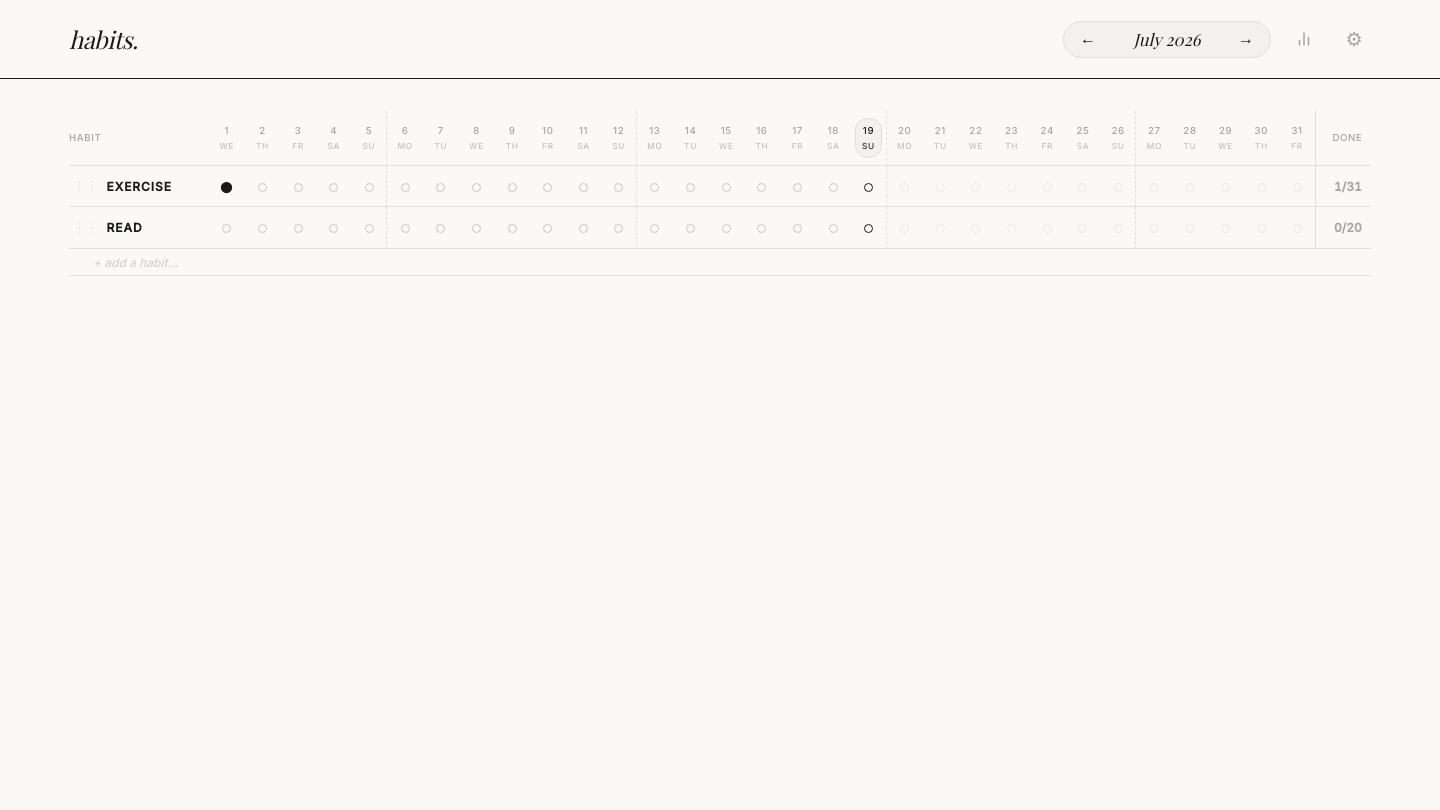
Test case: HabitTracker page › closes settings modal when overlay is clicked
Click the button titled "Settings" at (1354, 39), box [1337,22,1371,56]
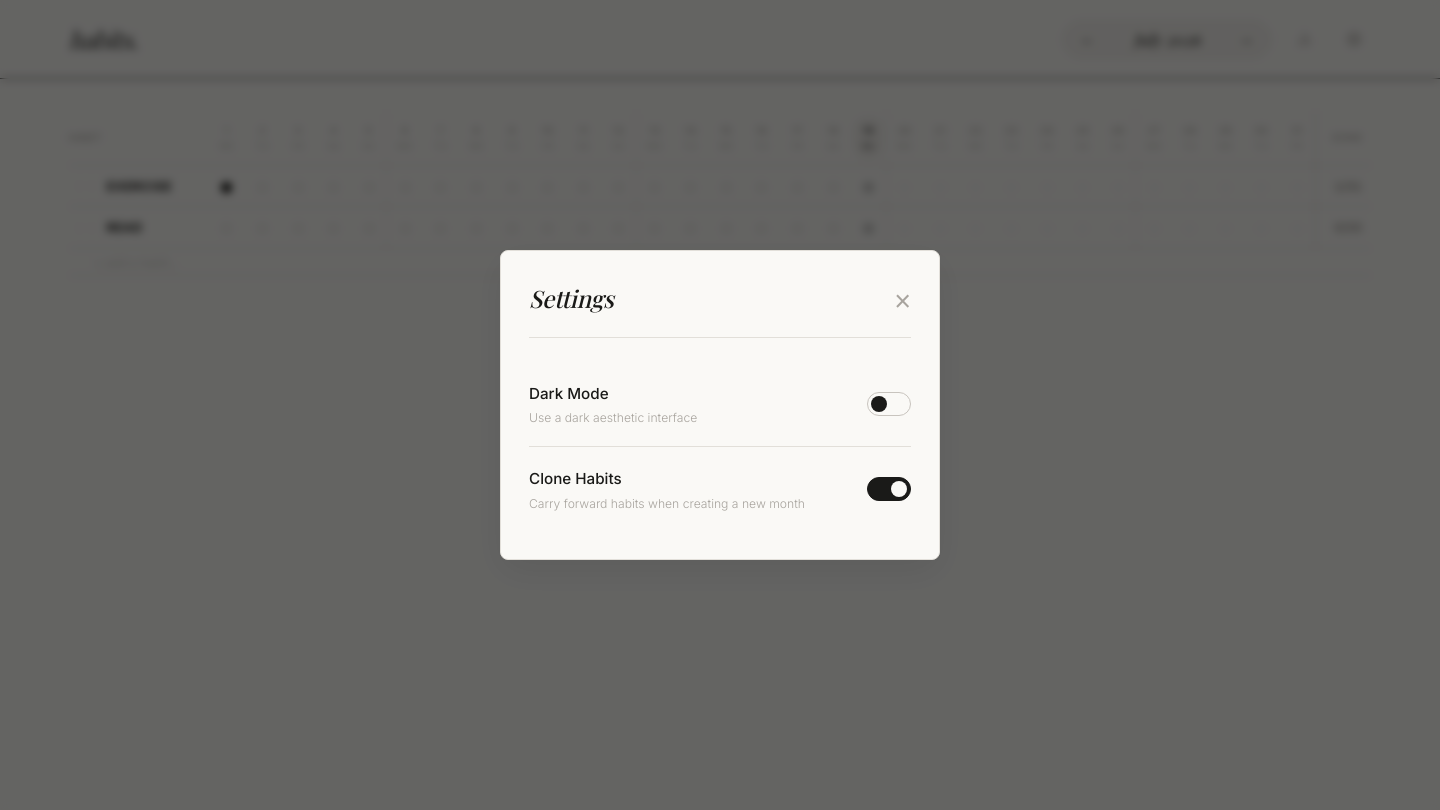
Expected: the text "Dark Mode" is shown, [529,384,609,403]
Click the × button
Click the button "×" at (903, 302), box [894,288,911,316]
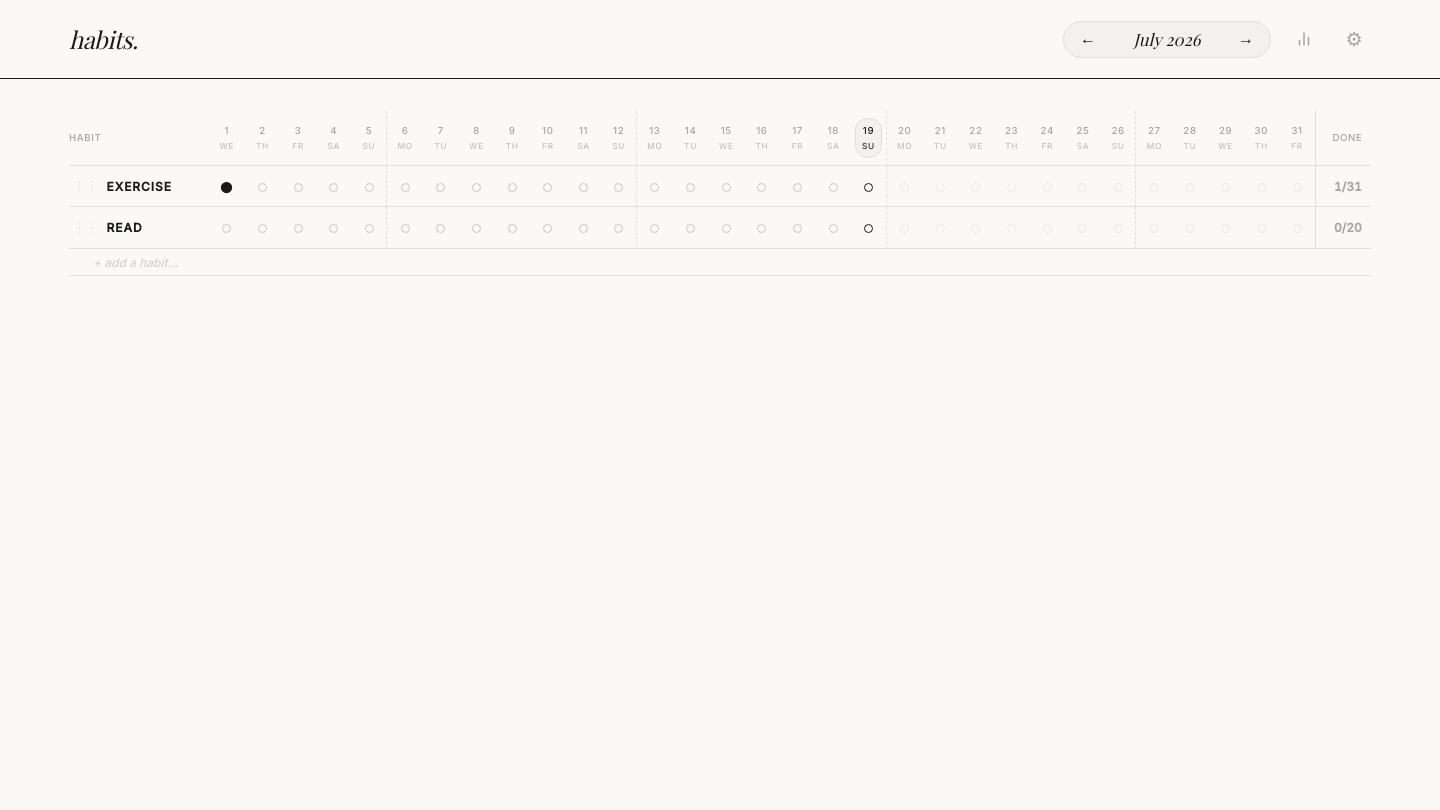
Expected: the text "Dark Mode" is gone
